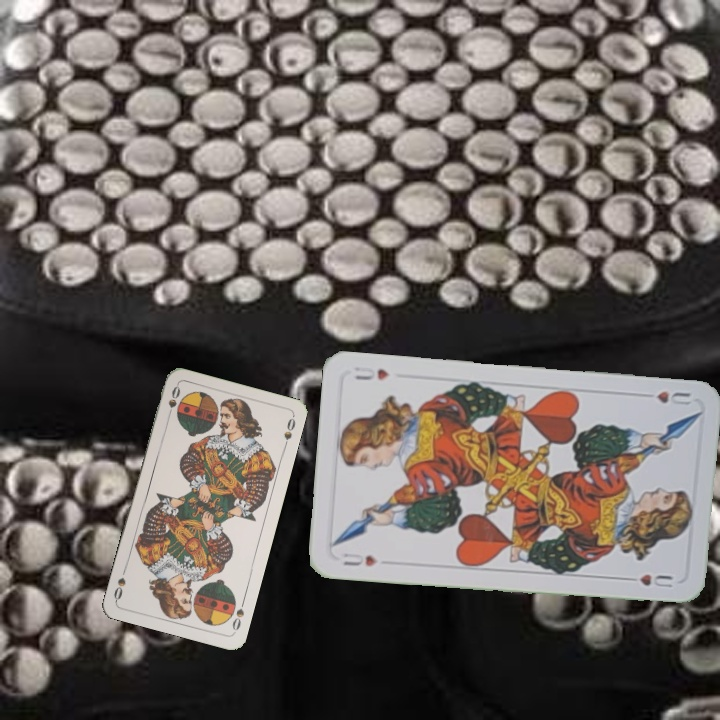HU: (336, 548, 380, 569), (652, 387, 694, 408)
SO: (163, 382, 183, 422), (228, 595, 247, 635)
